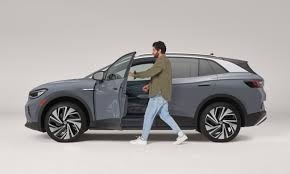car: (26, 51, 266, 143)
